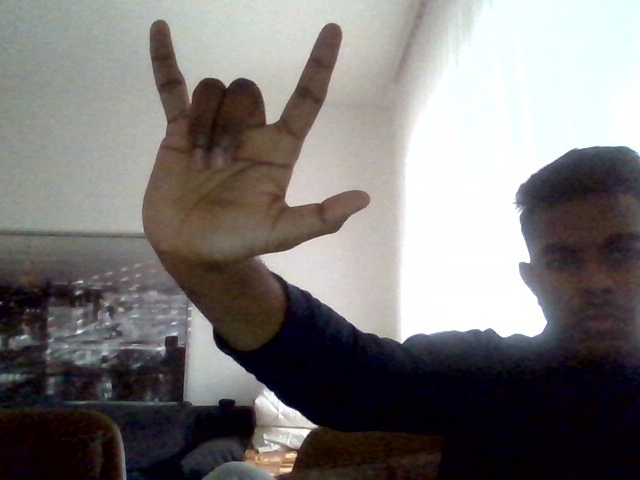thank: (141, 18, 370, 261)
